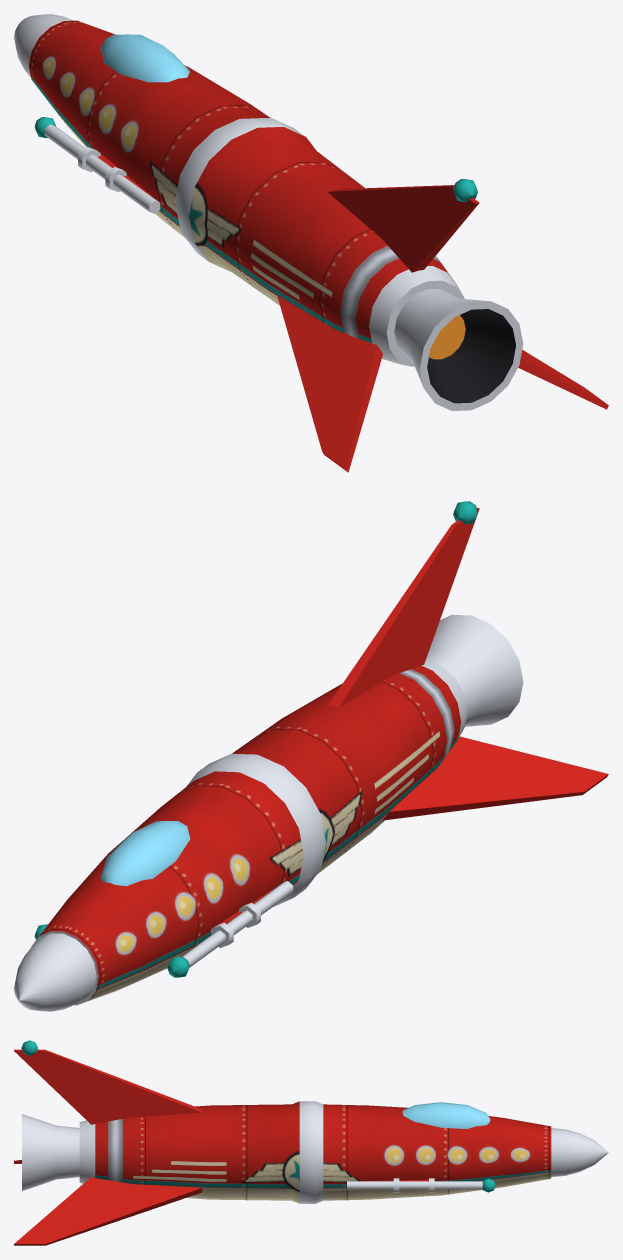
The model's file is comet.obj.
The picture shows the model from 3 angles, top to bottom: view 1: azimuth 30°, elevation 25°; view 2: azimuth 150°, elevation 25°; view 3: azimuth 270°, elevation 25°; orthographic projection. The views are drawn at different scales.
Parts seen in each view (by area): view 1: hull, bell, fin240, fin0, canopy, gun, fin120; view 2: hull, fin240, fin0, bell, canopy, gun; view 3: hull, fin0, fin120, bell, canopy, gun.
Boxes of the visible parts, box(x1,y1,x2,y2) form: hull: box(14, 14, 464, 366); bell: box(394, 289, 523, 410); fin240: box(277, 296, 382, 472); fin0: box(327, 185, 479, 272); canopy: box(100, 34, 190, 82); gun: box(44, 124, 160, 213); fin120: box(518, 350, 608, 409); hull: box(14, 659, 467, 1011); fin240: box(382, 736, 608, 820); fin0: box(327, 507, 479, 708); bell: box(426, 614, 523, 726); canopy: box(100, 821, 190, 886); gun: box(182, 881, 293, 967); hull: box(79, 1101, 608, 1203); fin0: box(14, 1049, 201, 1124); fin120: box(14, 1177, 202, 1245); bell: box(22, 1114, 79, 1190); canopy: box(402, 1102, 490, 1128); gun: box(347, 1181, 482, 1189).
Bounding box in the file's own units: 3.75 × 3.46 × 11.35.
Materials: 7 (1 with a texture image).
